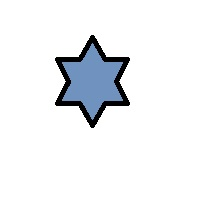star: (55, 34, 129, 127)
